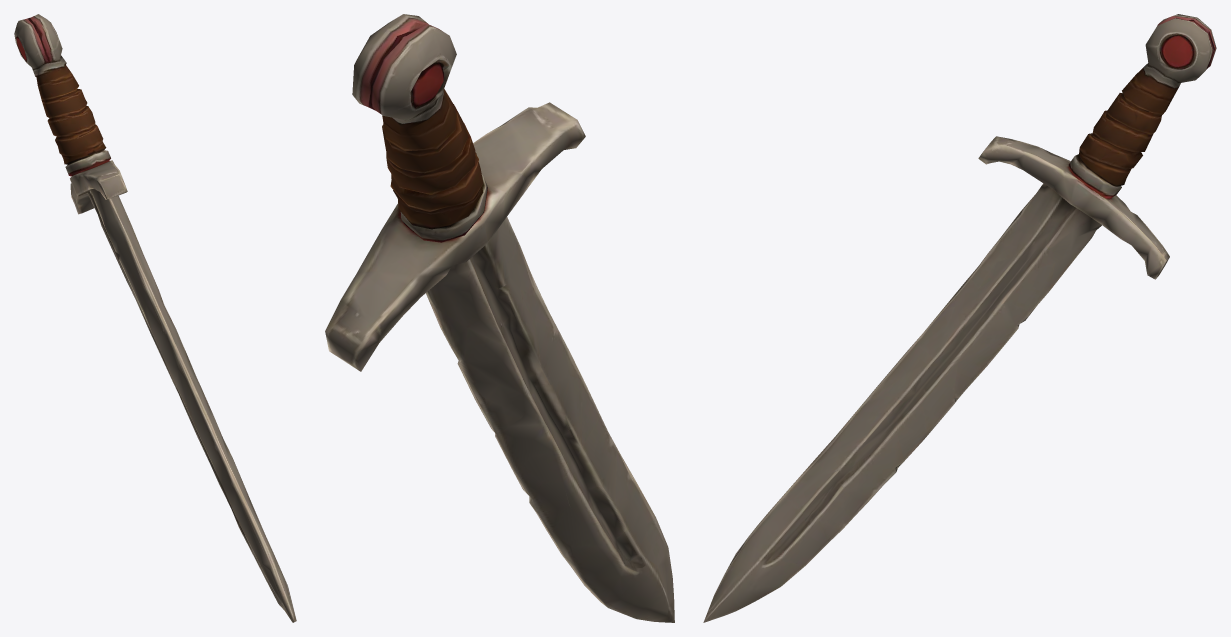
The model's file is model-prop-arming-sword-01.glb.
The picture shows the model from 3 angles, left to right: view 1: azimuth 30°, elevation 25°; view 2: azimuth 150°, elevation 25°; view 3: azimuth 270°, elevation 25°; orthographic projection. The views are drawn at different scales.
Visible parts, largest first — view 1: tripo_node_8641998c-8085-4254-8db6-51fc94e3ec87; view 2: tripo_node_8641998c-8085-4254-8db6-51fc94e3ec87; view 3: tripo_node_8641998c-8085-4254-8db6-51fc94e3ec87.
Boxes of the visible parts, left/top/right/bottom form: tripo_node_8641998c-8085-4254-8db6-51fc94e3ec87: left=14, top=14, right=296, bottom=622; tripo_node_8641998c-8085-4254-8db6-51fc94e3ec87: left=325, top=14, right=674, bottom=622; tripo_node_8641998c-8085-4254-8db6-51fc94e3ec87: left=703, top=14, right=1216, bottom=622.
Size of the model in its own units: 0.1188 by 0.65 by 0.529.
Materials: 1 (1 with a texture image).
